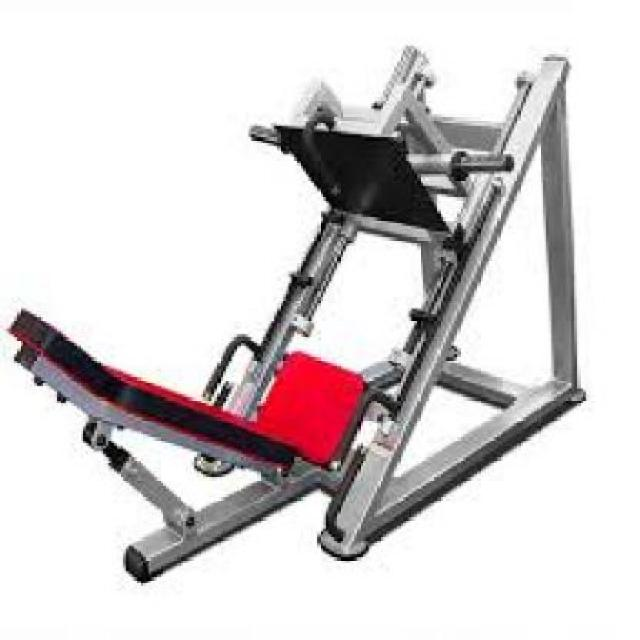leg press: (3, 37, 640, 592)
